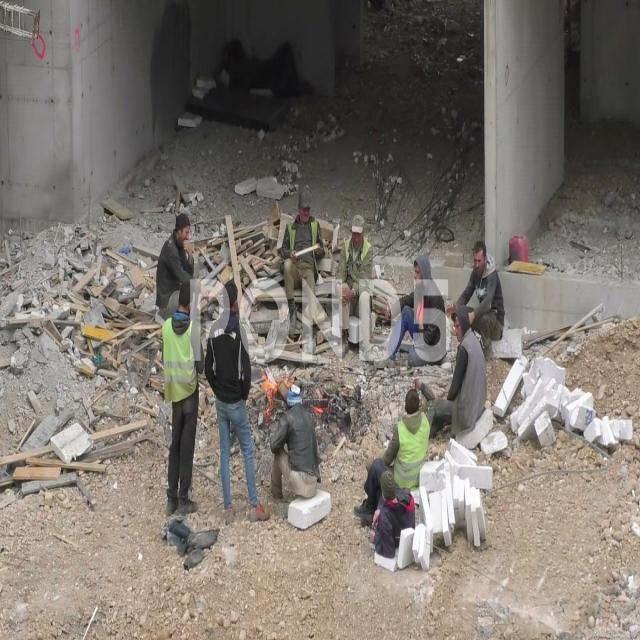Helmet: (278, 401, 324, 499), (212, 307, 254, 405), (464, 262, 506, 342), (409, 280, 449, 360), (157, 230, 186, 324), (346, 200, 380, 260), (444, 299, 474, 353), (400, 374, 428, 430), (468, 225, 494, 283), (406, 245, 434, 296), (216, 274, 248, 316), (170, 204, 196, 252), (298, 172, 318, 231), (178, 280, 202, 324), (282, 376, 308, 415)
Safety Vest: (162, 305, 200, 419), (387, 408, 430, 500), (282, 209, 326, 294), (334, 235, 376, 305)
